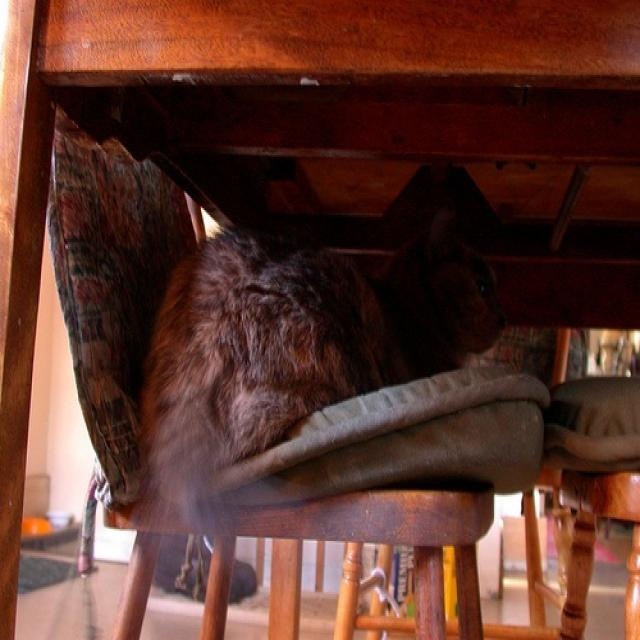cat: (140, 210, 506, 512)
chair: (48, 104, 496, 638), (559, 471, 639, 638)
diningtable: (1, 2, 639, 638)
